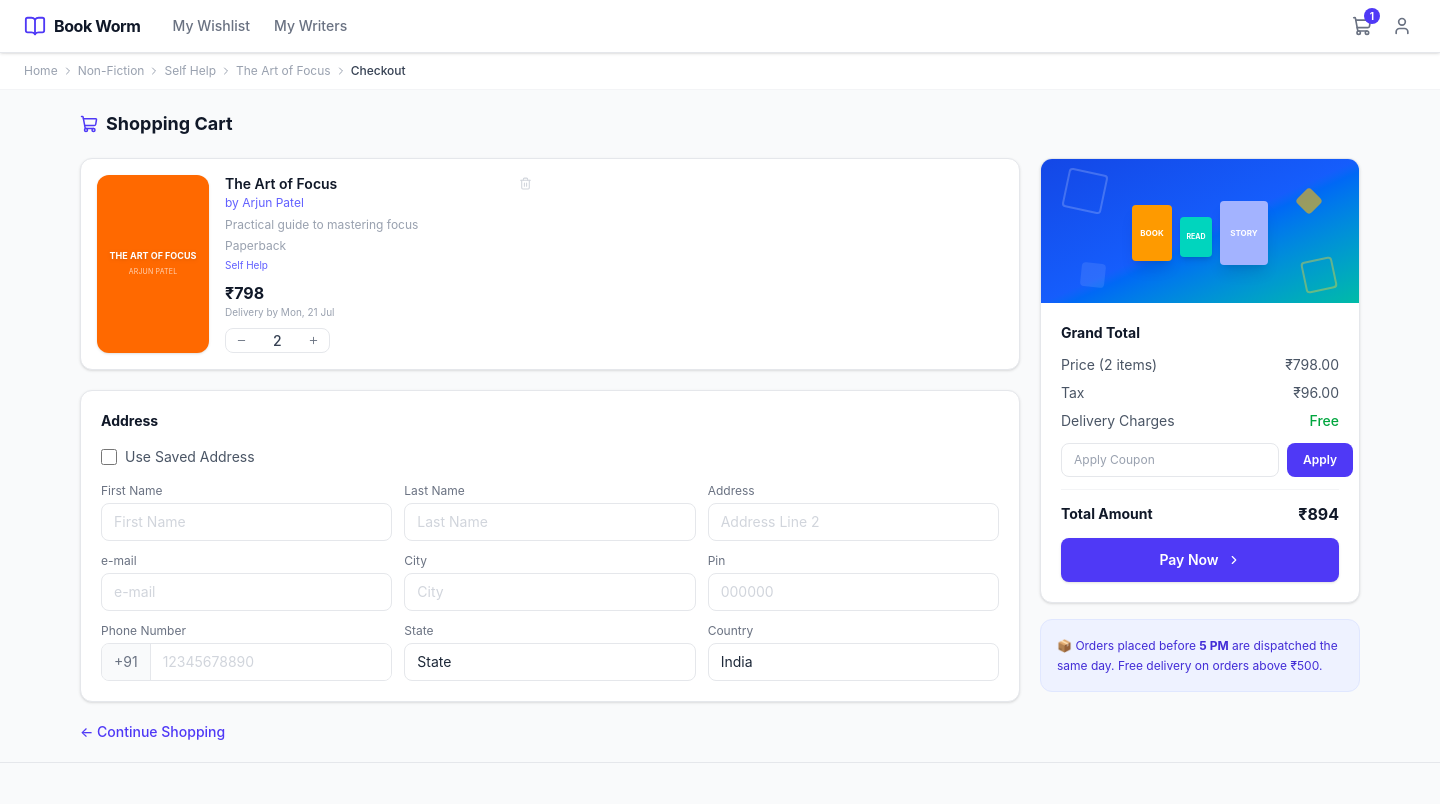
it: CartPage › applies and removes coupon code BOOK10 correctly
The width and height of the screenshot is (1440, 804).
Invalid coupon
In the field with placeholder "Apply Coupon": [1170, 460] box [1061,443,1279,477], type "INVALIDCODE"
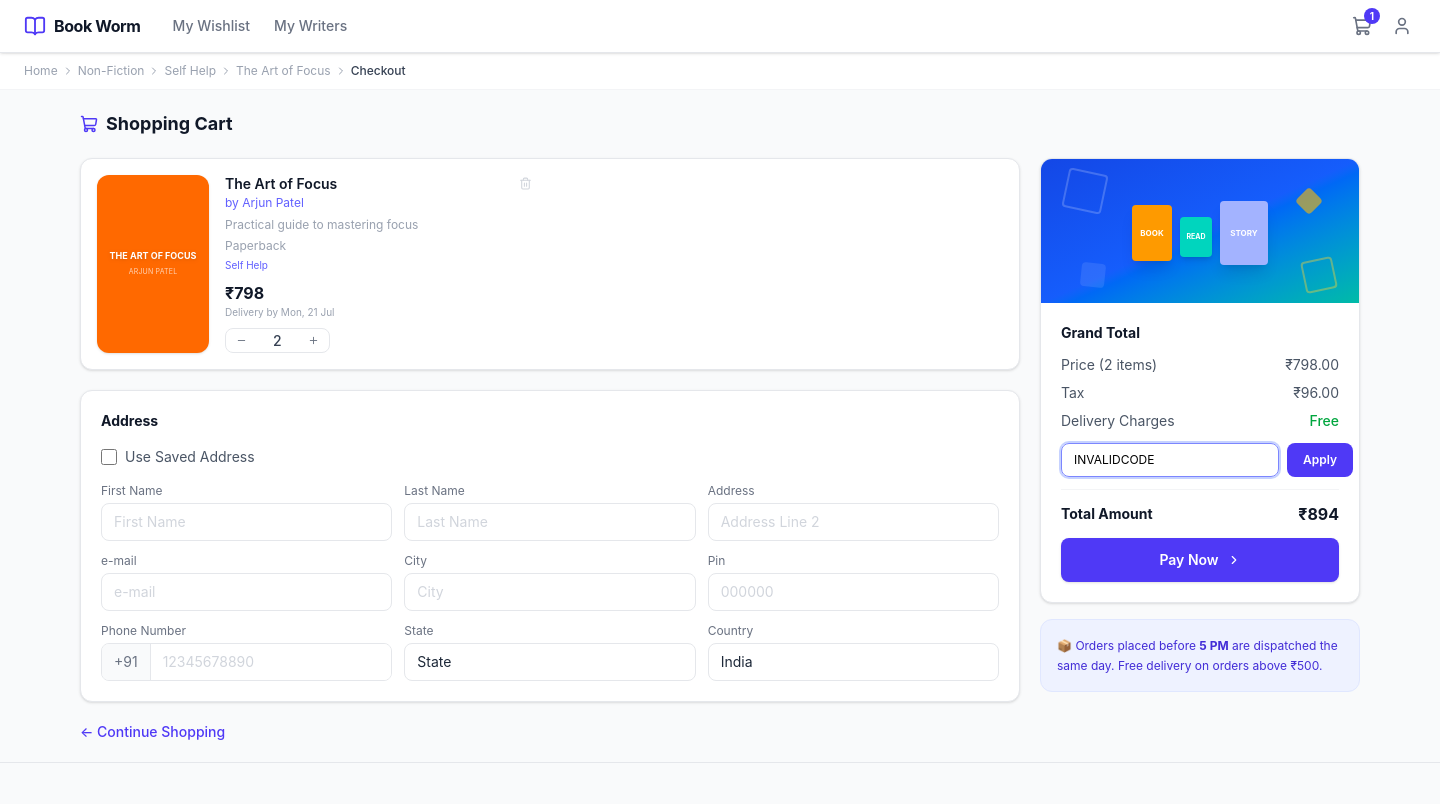
Click the button "Apply": [1320, 460] box [1287,443,1353,477]
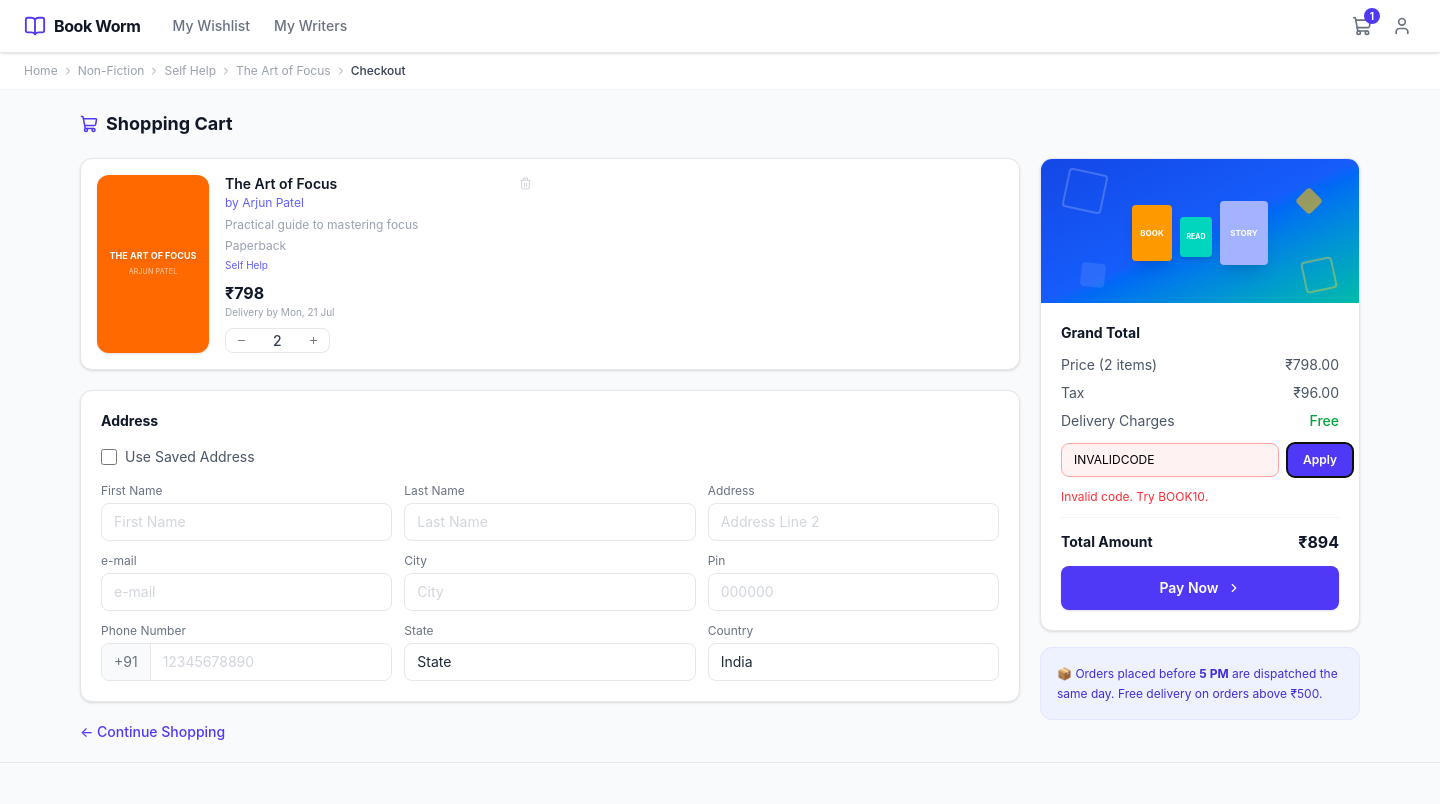
Check: the text "Invalid code. Try BOOK10." is shown, box [1061,489,1208,504]
Valid coupon
Replace the text in the field with placeholder "Apply Coupon" with "BOOK10": [1170, 460] box [1061,443,1279,477]
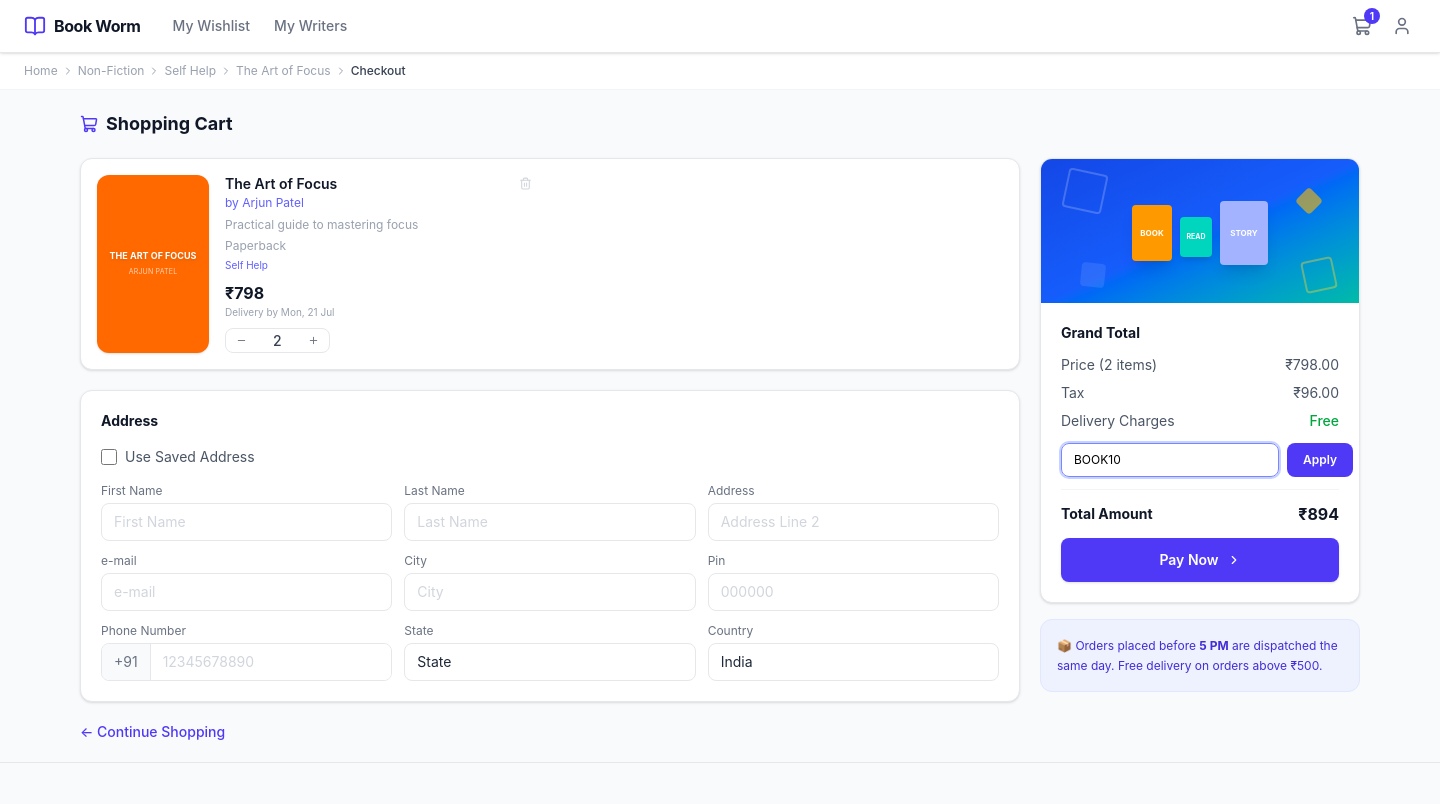
Click the button "Apply": [1320, 460] box [1287,443,1353,477]
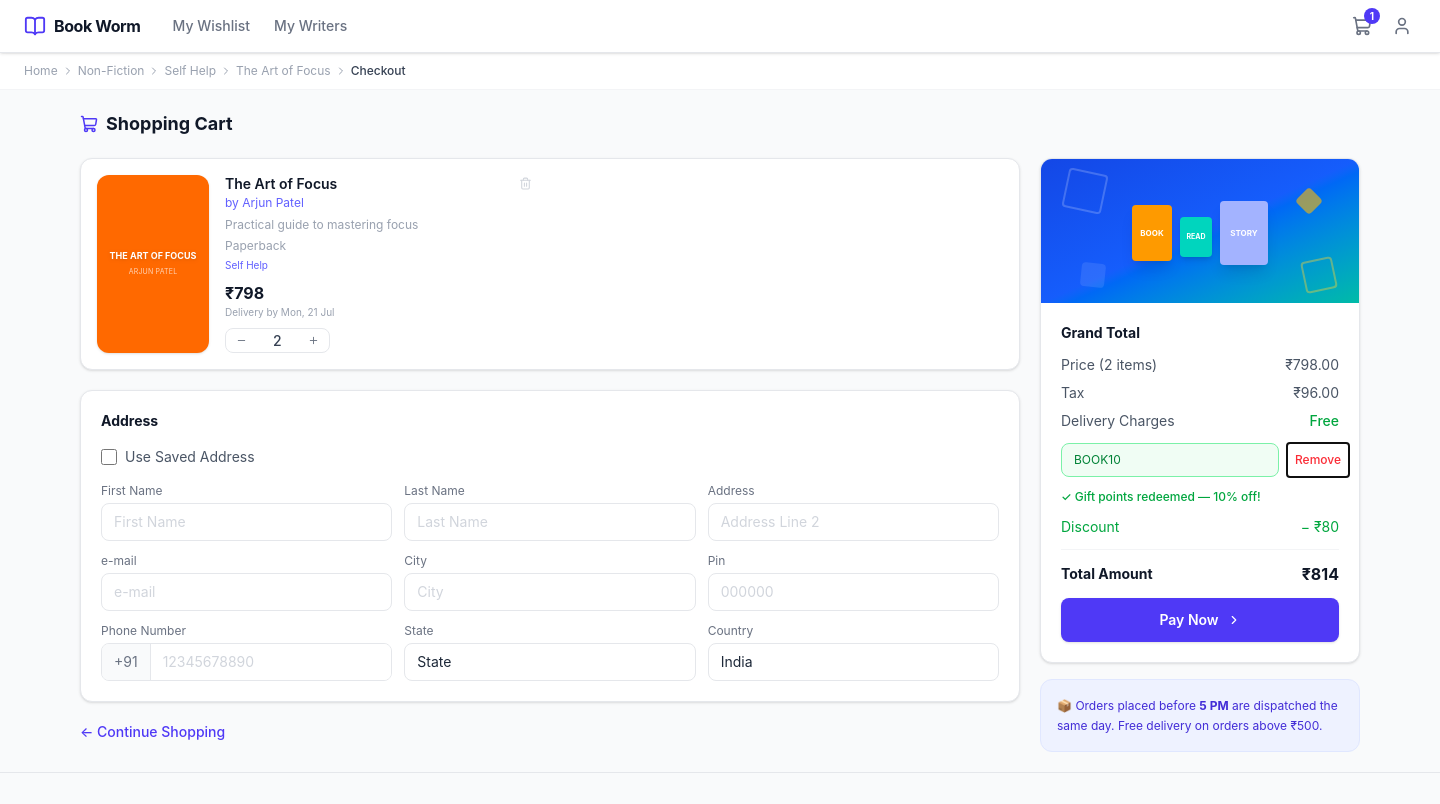
Check: the text "✓ Gift points redeemed — 10% off!" is shown, box [1061,489,1261,504]
Remove coupon
Click the button "Remove": [1318, 460] box [1287,443,1349,477]
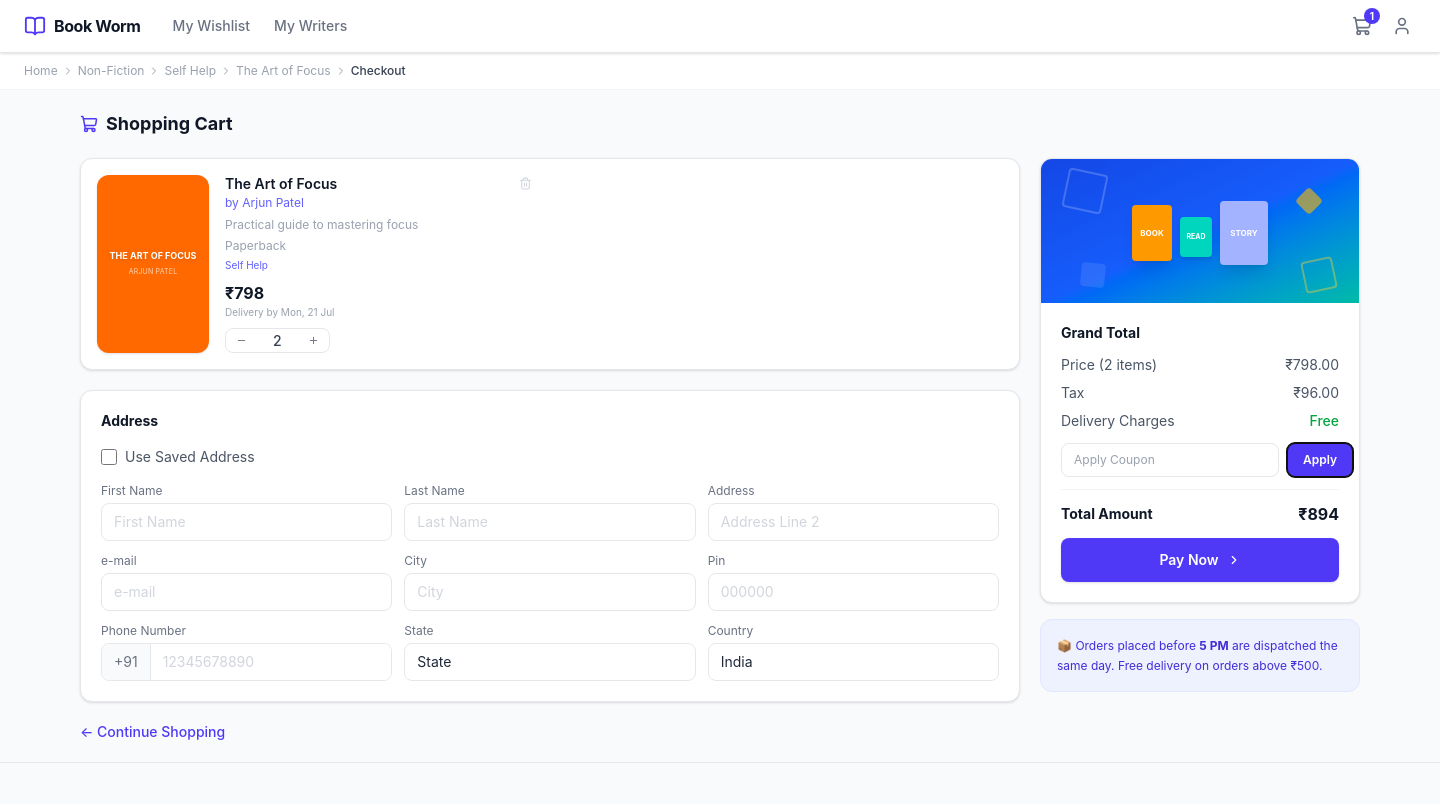
Check: the text "✓ Gift points redeemed — 10% off!" is gone
